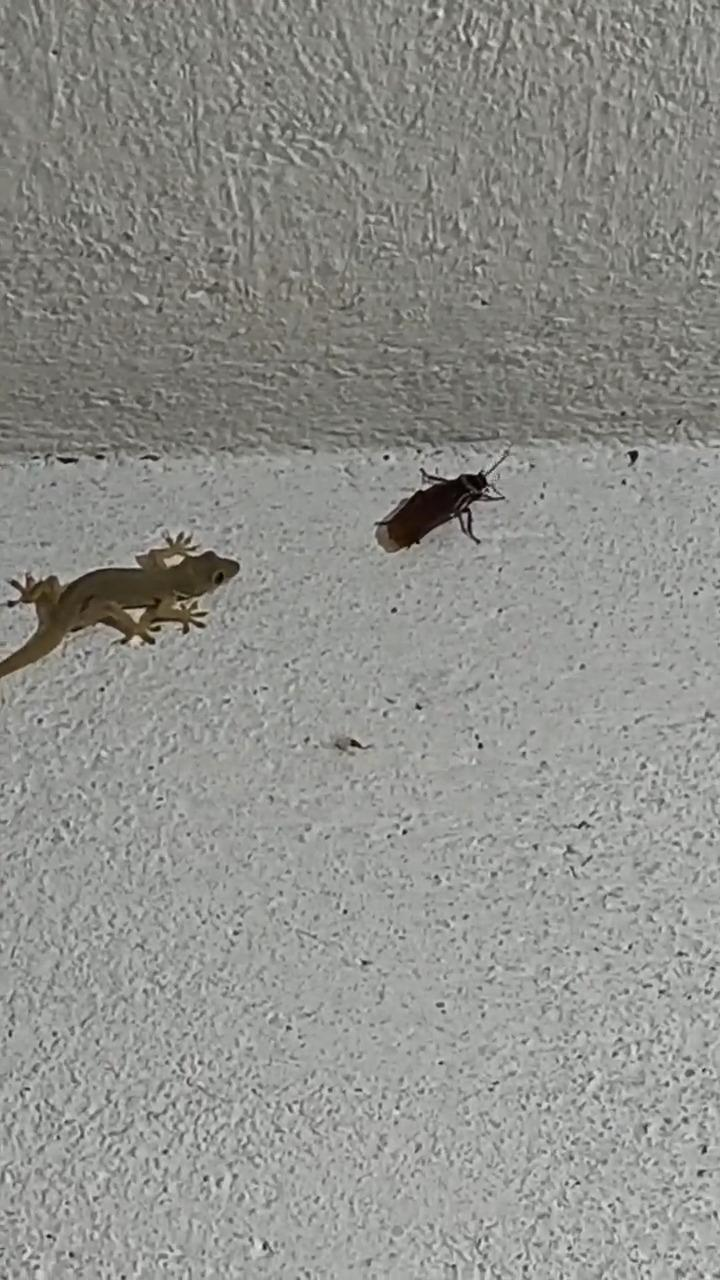cockroach: (363, 446, 515, 548)
lizard: (0, 518, 257, 676)
